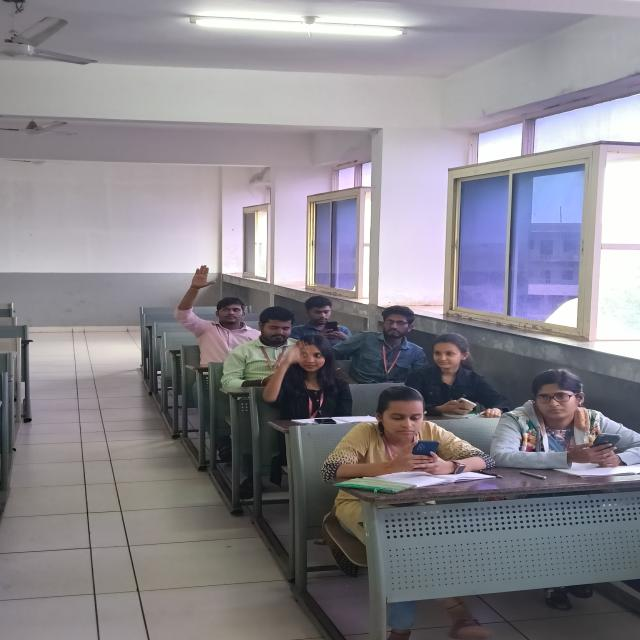Hand Rising: (151, 232, 274, 367), (259, 334, 365, 444)
Using Phone: (294, 382, 482, 530), (483, 347, 640, 496), (291, 249, 369, 342)
